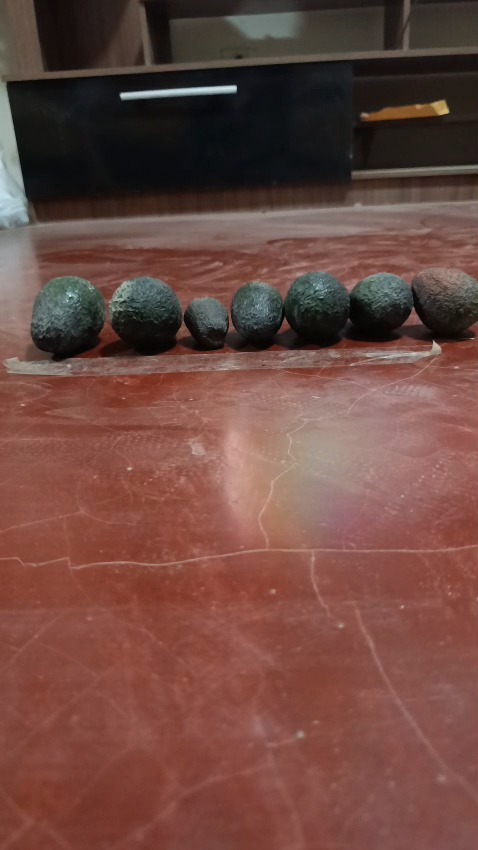Primera: (29, 274, 107, 355), (107, 275, 184, 350), (284, 271, 350, 342)
Segunda: (410, 266, 476, 336), (347, 271, 414, 337), (229, 279, 285, 344)
Tercera: (183, 297, 228, 348)
